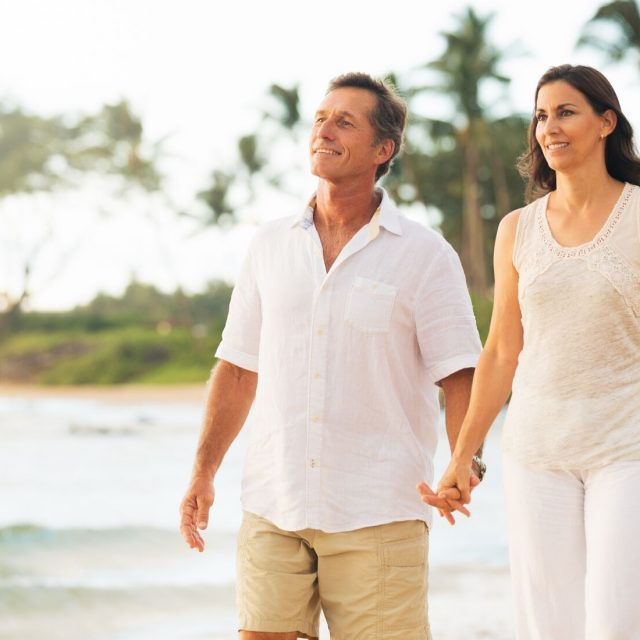human: (305, 80, 396, 185), (531, 78, 615, 171)
